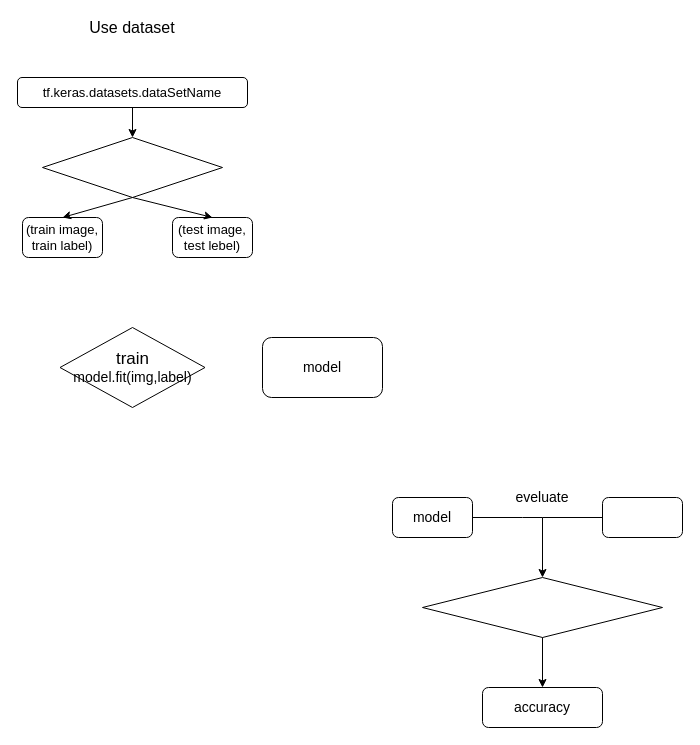
This 700x745 diagram has some shape labels left out. The shapes that lost their labels are listed below. From the top down, each one's centre as x and y in pixels, then its label:
At (x=132, y=167): ".loadData()".
At (x=642, y=517): "test data test label".
At (x=542, y=607): "model.evaluate(image, label)".
